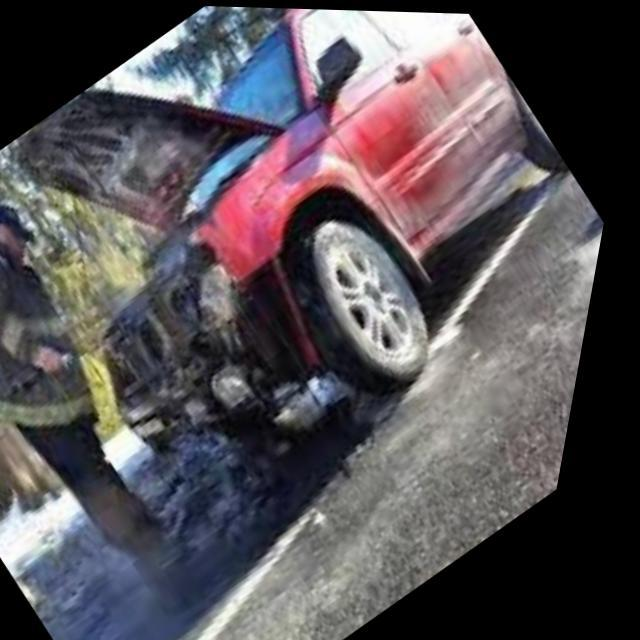no part: (98, 240, 330, 465)
